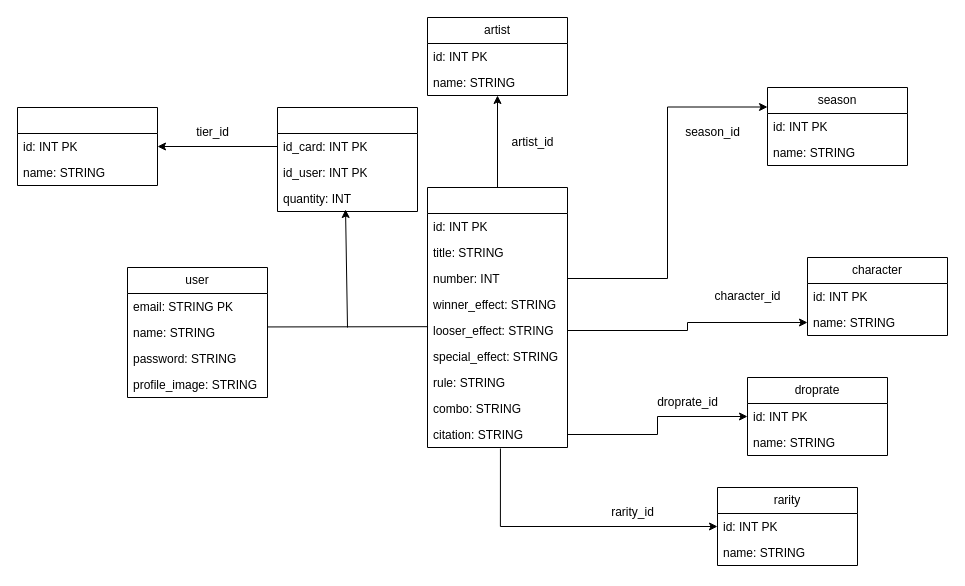
The diagram is 965 pixels wide and 586 high, and some of its shapes have lost their labels. Here are the shapes that lost their labels. From the top down, the box of each, then its label:
(16, 106, 158, 186): tier
(276, 106, 418, 212): collection
(426, 186, 568, 448): card
